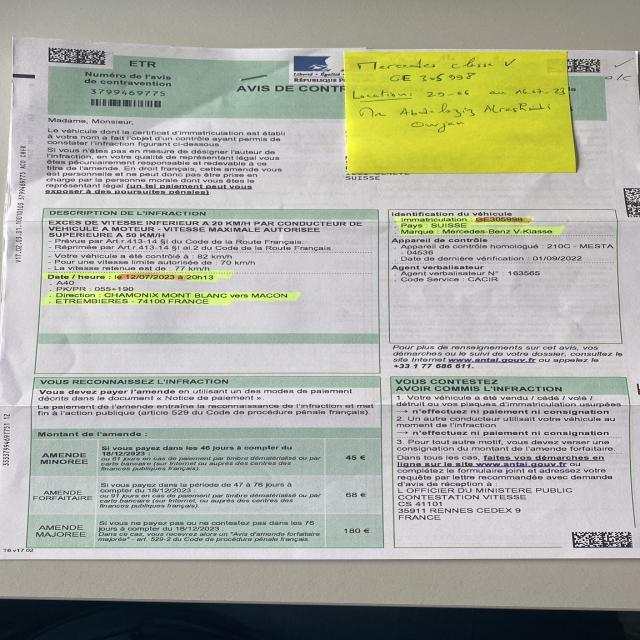paper-document-: (2, 40, 639, 559)
